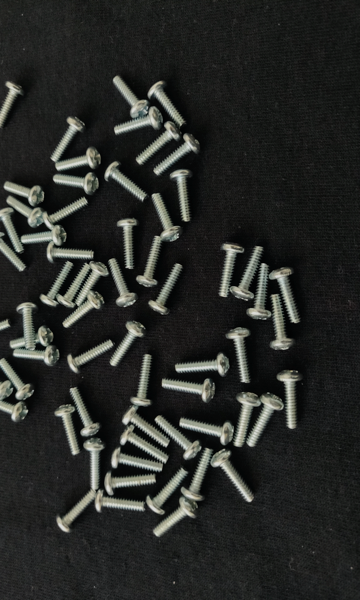shortscrew: (211, 450, 256, 505), (247, 392, 286, 449), (155, 415, 202, 461), (153, 133, 202, 177), (147, 466, 189, 516), (122, 404, 169, 448), (136, 121, 183, 165), (230, 245, 266, 302), (148, 263, 186, 316), (56, 487, 98, 534), (153, 497, 200, 539), (105, 161, 150, 204), (148, 80, 187, 128), (50, 115, 88, 164), (120, 426, 169, 464), (109, 321, 147, 368), (270, 269, 302, 324), (112, 75, 151, 119), (68, 387, 102, 437), (182, 448, 214, 501), (268, 294, 297, 352), (225, 328, 255, 384), (277, 370, 305, 430), (43, 196, 92, 230), (151, 193, 184, 243), (62, 291, 105, 329), (76, 261, 111, 307), (234, 392, 262, 448), (108, 259, 140, 308), (68, 340, 114, 374), (56, 264, 90, 310), (40, 262, 74, 308), (0, 359, 36, 402), (180, 417, 235, 445), (219, 243, 246, 298), (163, 377, 217, 404), (55, 405, 82, 457), (111, 447, 163, 474), (175, 352, 231, 377), (247, 264, 272, 320), (136, 236, 162, 289), (115, 107, 164, 135), (169, 169, 194, 223), (130, 354, 155, 407), (6, 196, 47, 228), (0, 80, 26, 130), (95, 490, 146, 515), (55, 145, 104, 171), (0, 208, 27, 255), (84, 438, 108, 490), (3, 179, 46, 208), (105, 472, 156, 496), (116, 218, 140, 269), (0, 232, 28, 273), (53, 173, 100, 197), (10, 325, 57, 349), (13, 345, 61, 367), (21, 225, 68, 247), (17, 302, 38, 350), (0, 394, 30, 423), (0, 365, 13, 400), (0, 318, 13, 346)
